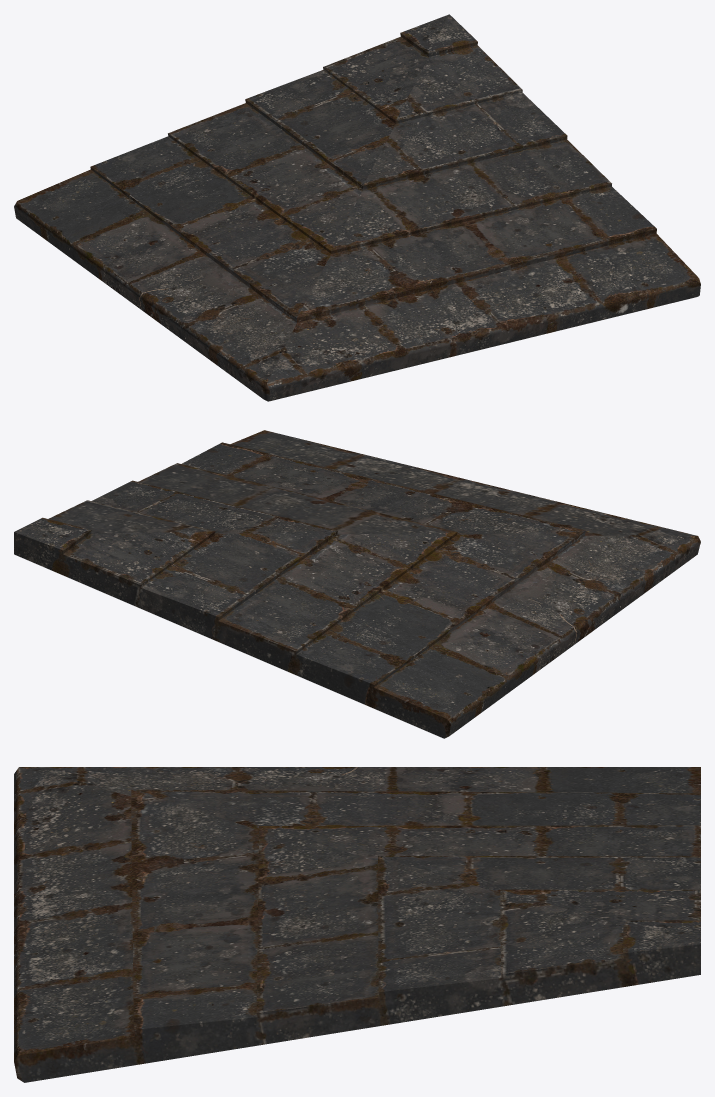
The model's file is WallRoof_CornerTop.fbx.
The picture shows the model from 3 angles, top to bottom: view 1: azimuth 30°, elevation 25°; view 2: azimuth 150°, elevation 25°; view 3: azimuth 270°, elevation 25°; orthographic projection. The views are drawn at different scales.
Visible parts, largest first — view 1: WallRoof_CornerTop_LOD0; view 2: WallRoof_CornerTop_LOD0; view 3: WallRoof_CornerTop_LOD0.
Boxes of the visible parts, bbox=[...] form: WallRoof_CornerTop_LOD0: bbox=[14, 14, 700, 401]; WallRoof_CornerTop_LOD0: bbox=[14, 430, 700, 738]; WallRoof_CornerTop_LOD0: bbox=[14, 767, 700, 1082].
Size of what is drawn, in the model's own units: 111 by 24.65 by 111.
